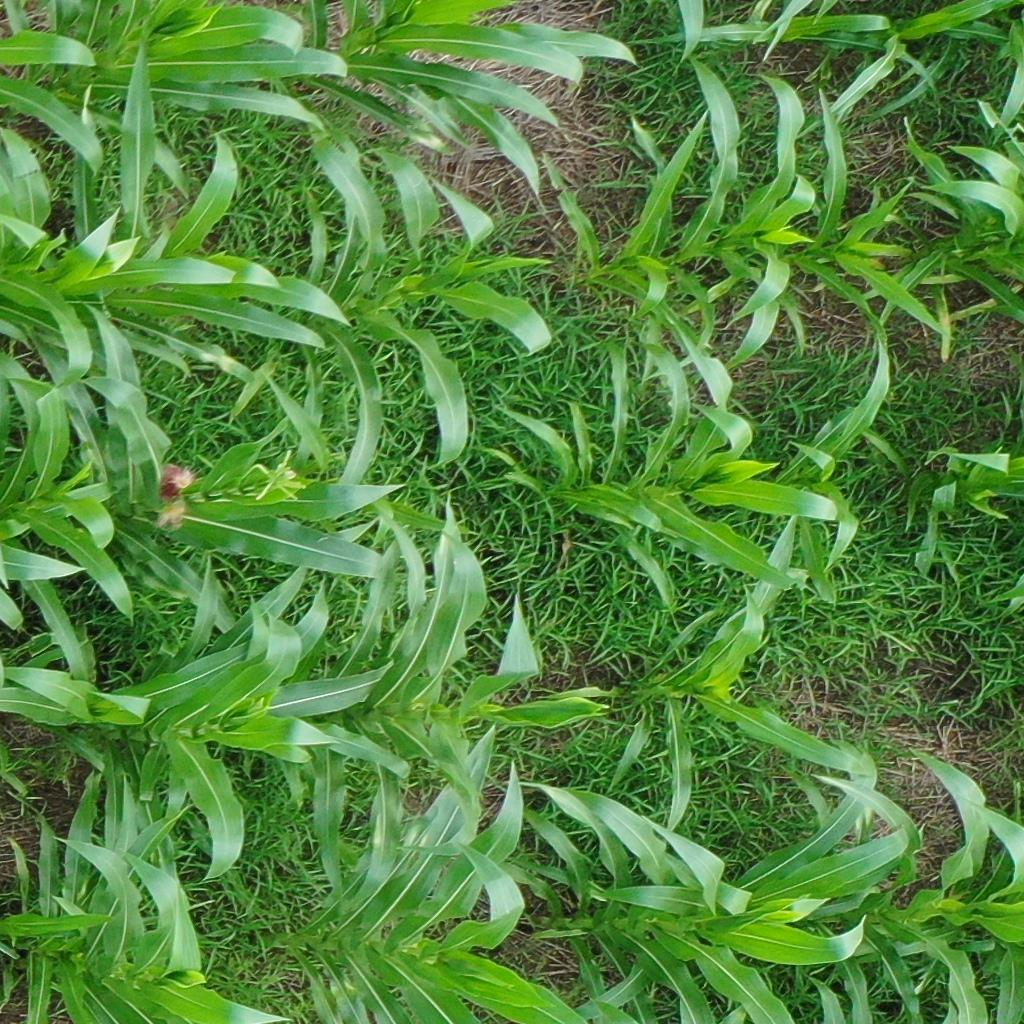Tassel: (251, 449, 312, 508)
